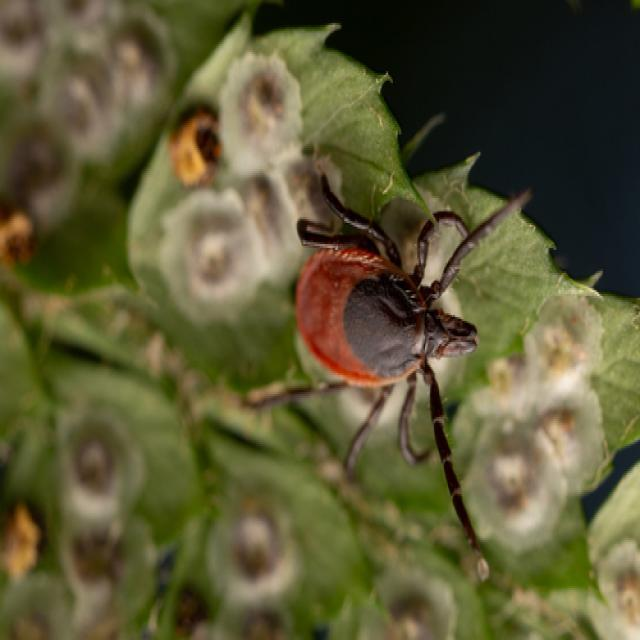Ixodes Ricinus-F-Fed: (239, 171, 532, 582)
